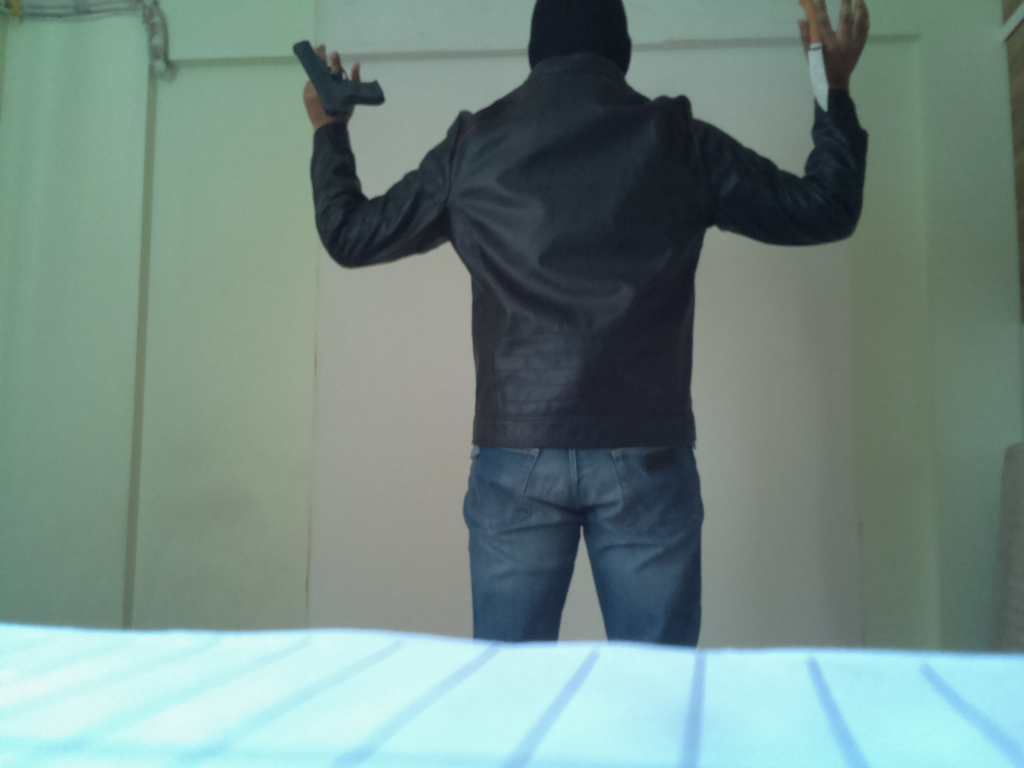gun: (287, 36, 388, 119)
knife: (796, 2, 838, 118)
